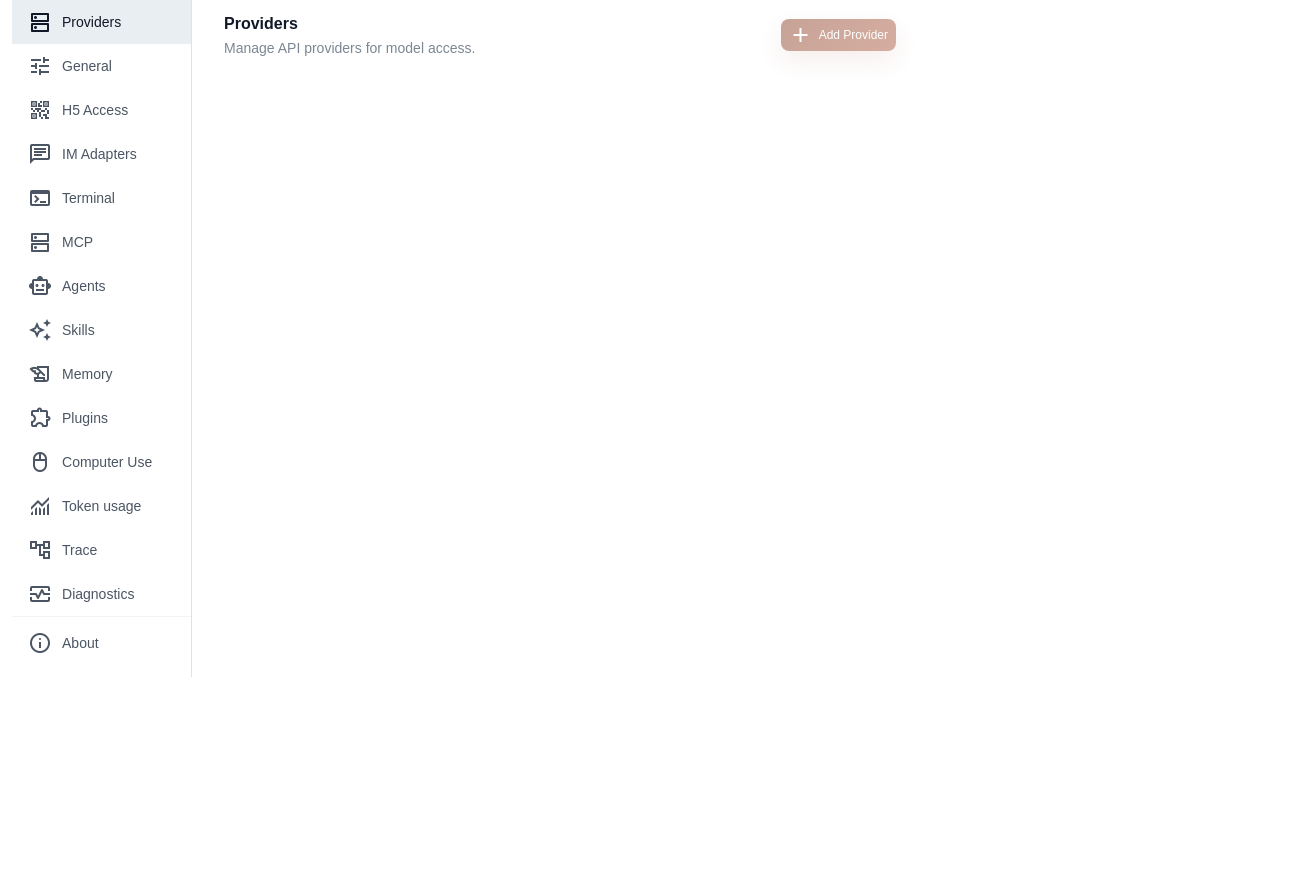
Test case: Settings > General tab › validates typed provider network timeout and supports precise step controls
Click the button "General" at coordinates (102, 66), box [12,44,191,88]
(page scrolled)
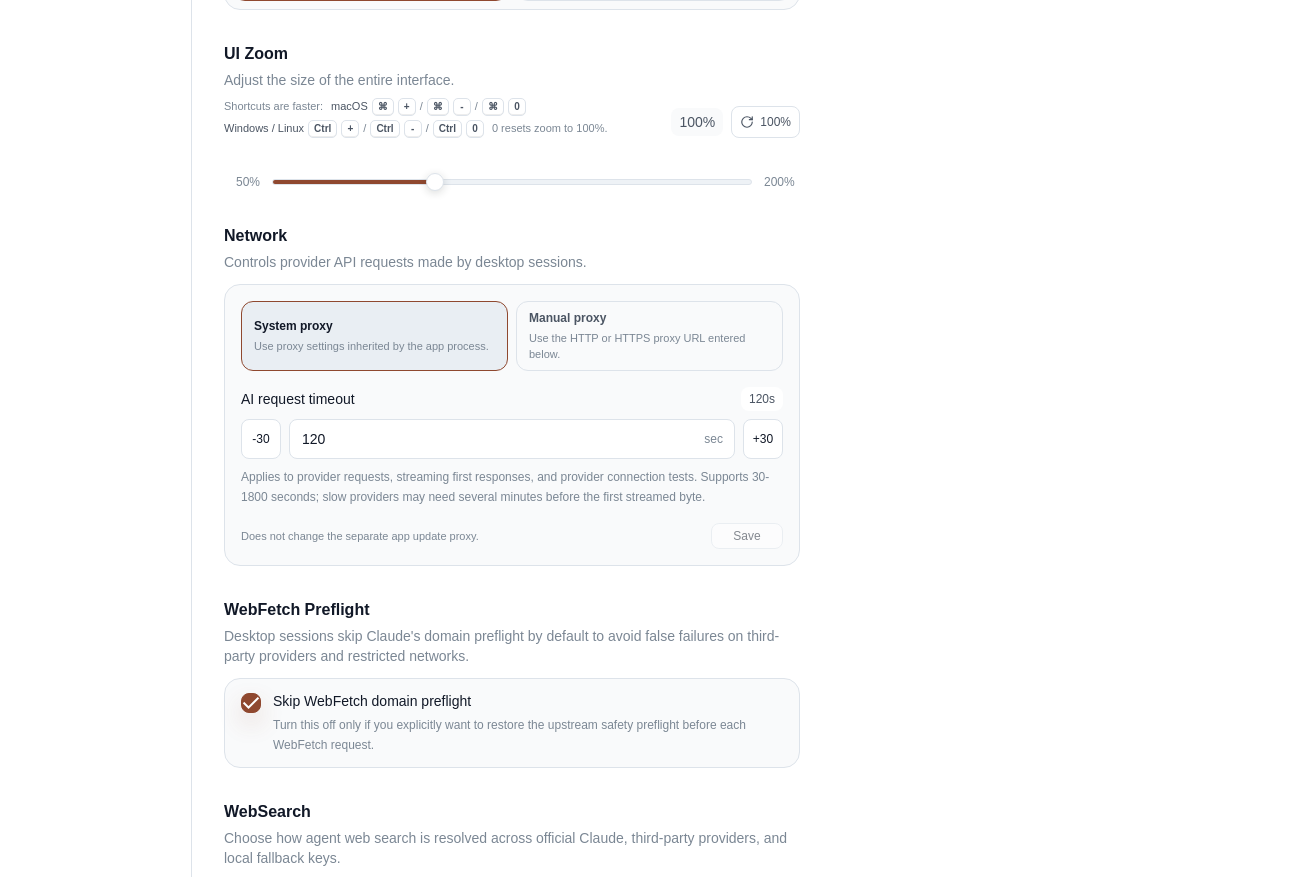
Replace the text in the number field labelled "AI request timeout" with "2000" at coordinates (512, 438), box [289,418,735,458]
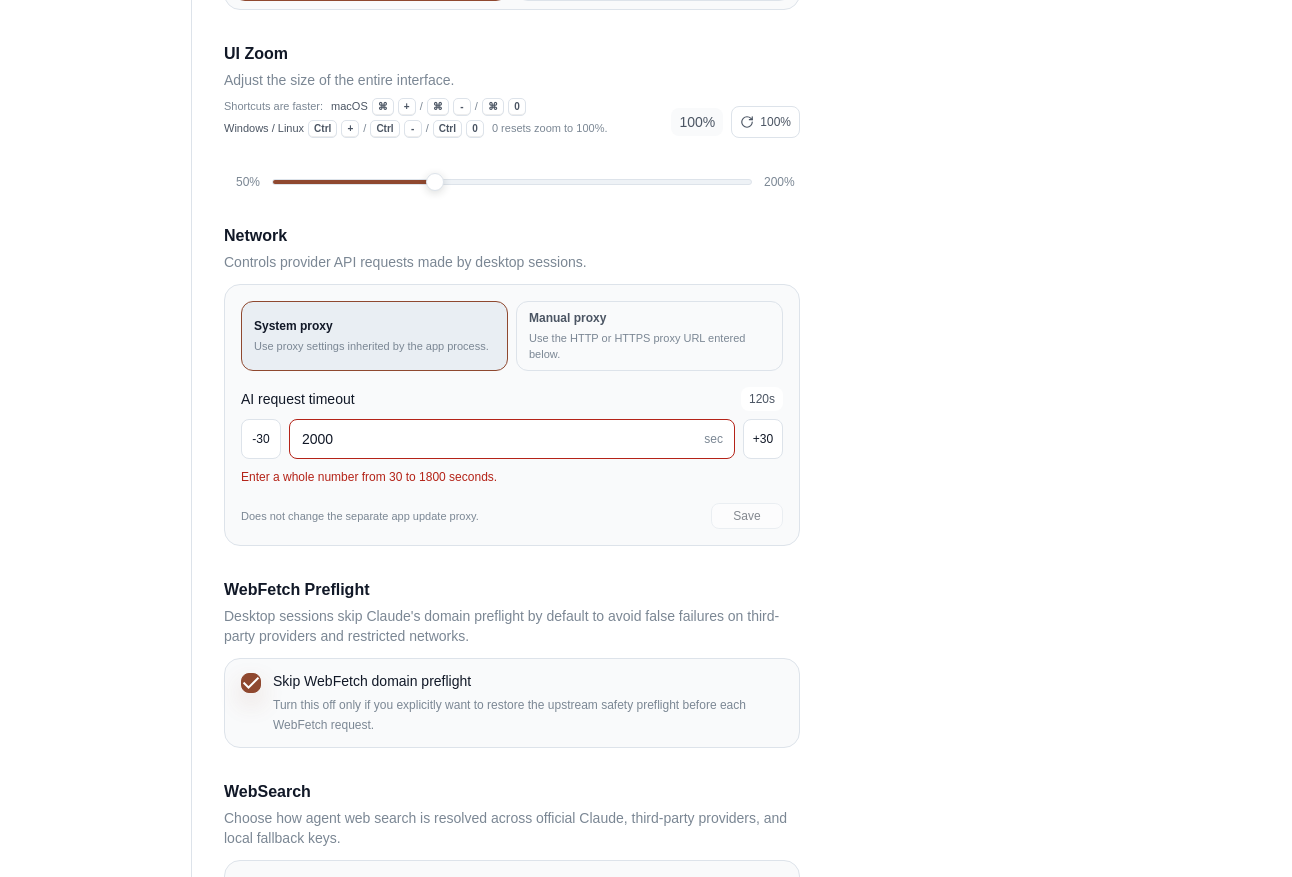
Now the button "Save" is disabled, box [711,502,783,528]
Now the text "Enter a whole number from 30 to 1800 seconds." is shown, box [241,470,497,484]
Replace the text in the number field labelled "AI request timeout" with "90" at coordinates (512, 438), box [289,418,735,458]
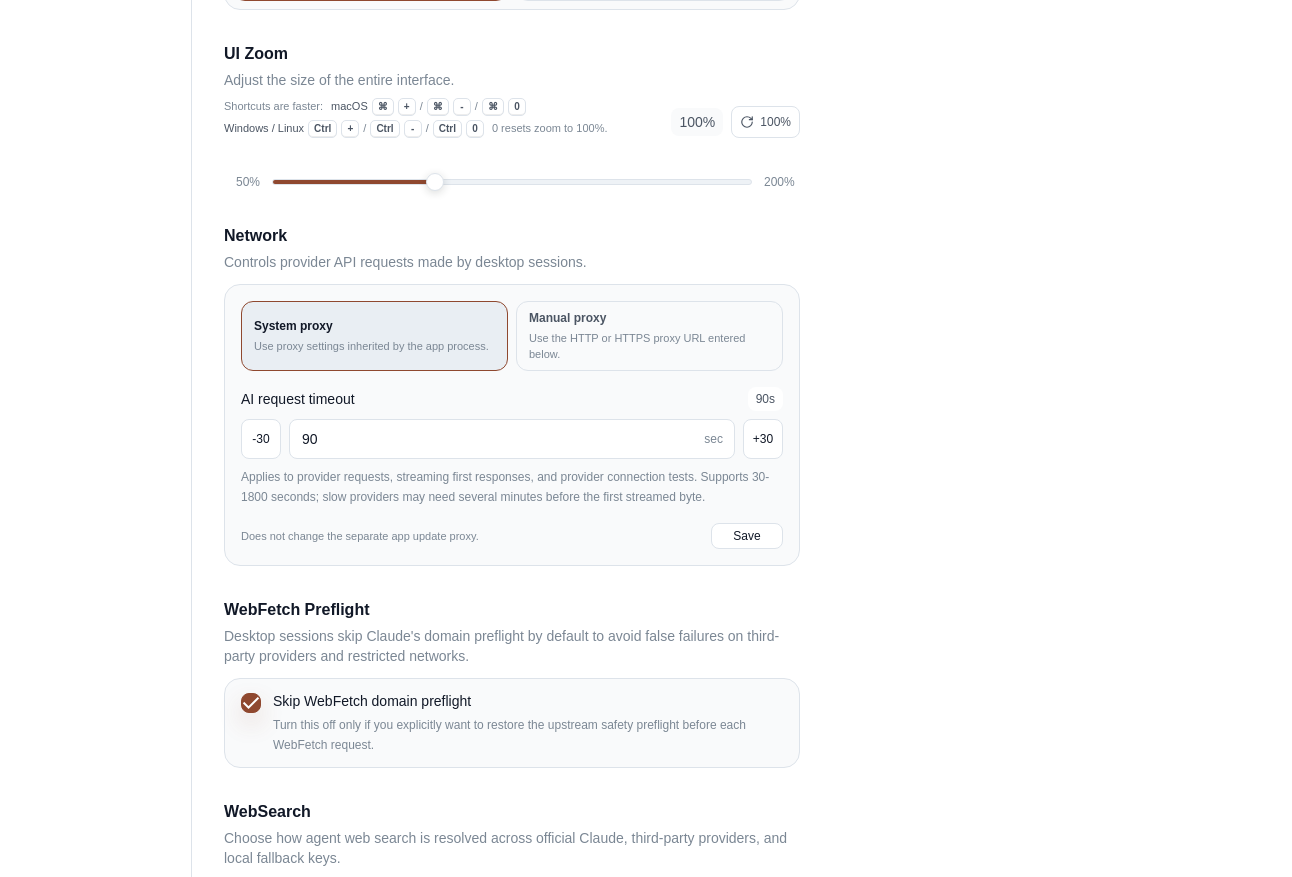
Click the button named "Increase by 30 seconds" at coordinates (763, 438), box [743,418,783,458]
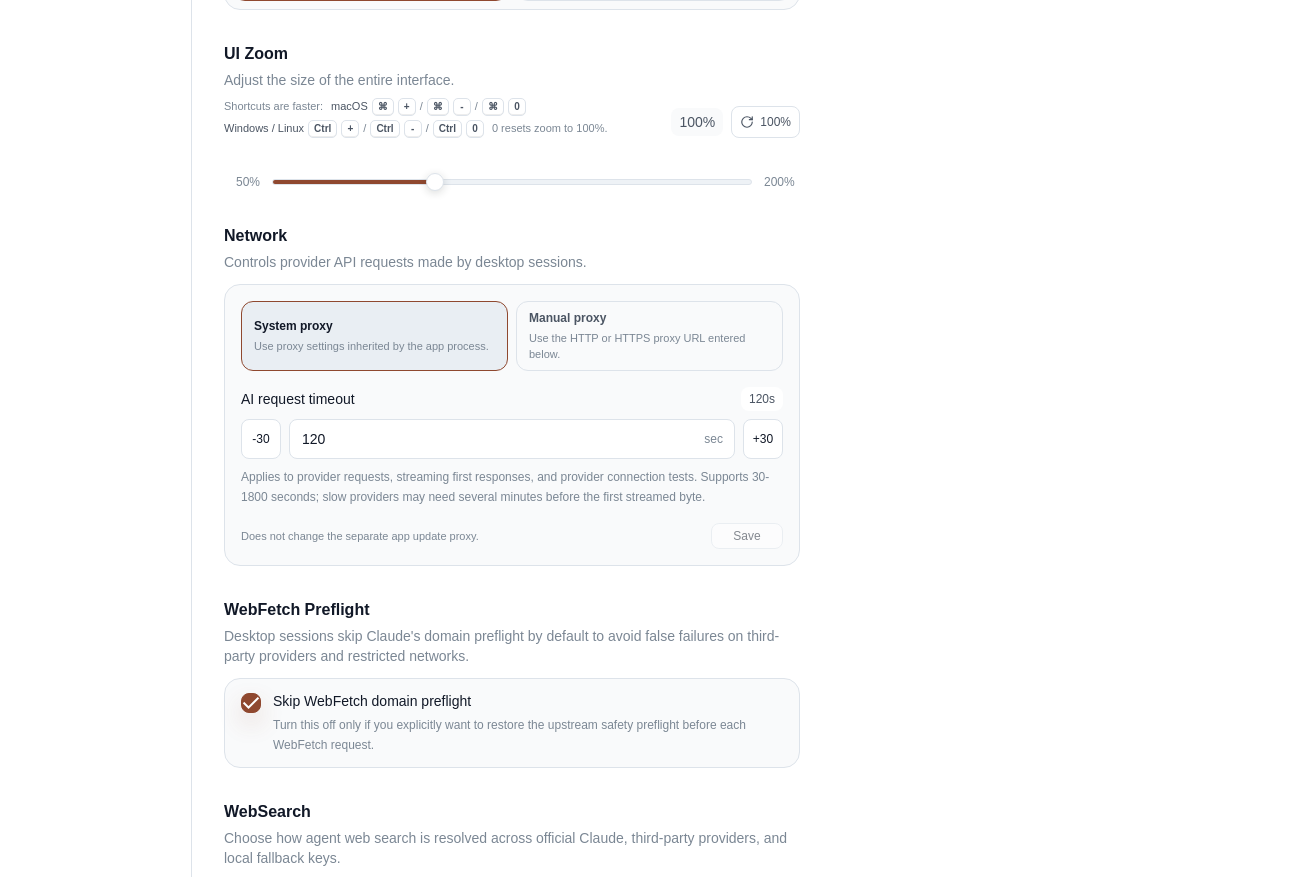
Now the number field labelled "AI request timeout" holds "120", box [289,418,735,458]
Click the button named "Decrease by 30 seconds" at coordinates (261, 438), box [241,418,281,458]
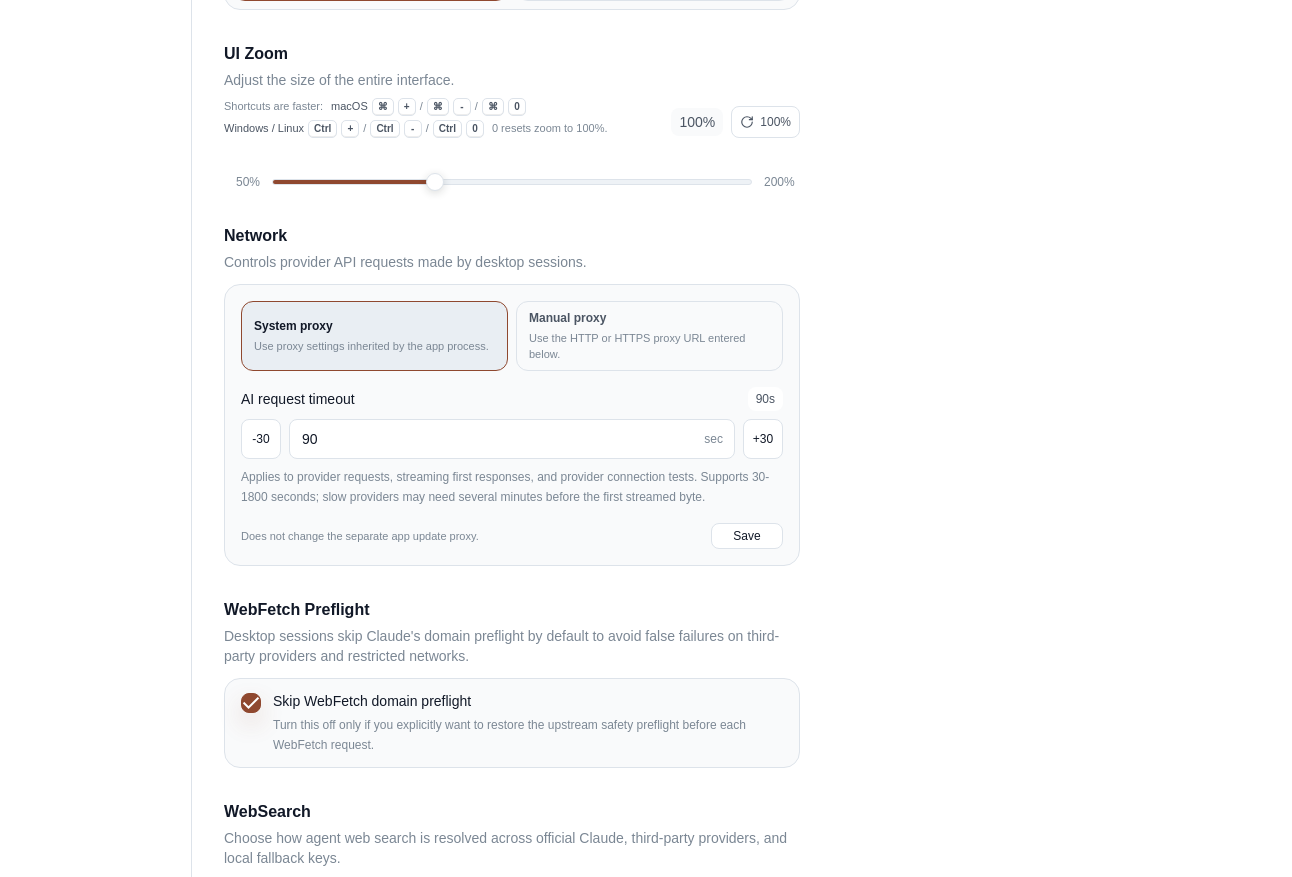
Click the button named "Decrease by 30 seconds" at coordinates (261, 438), box [241,418,281,458]
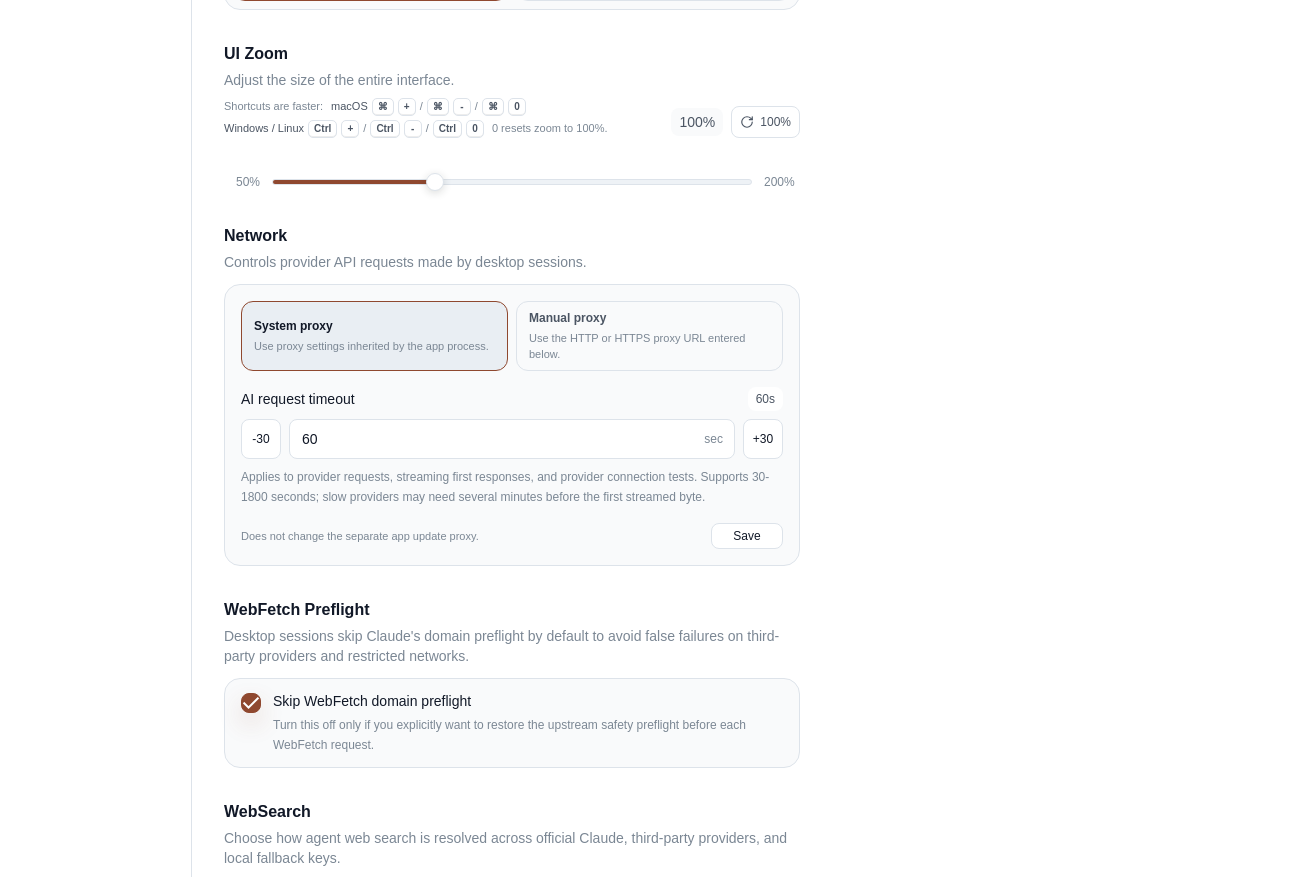
Now the button "Save" is enabled, box [711,522,783,548]
Now the number field labelled "AI request timeout" holds "60", box [289,418,735,458]
